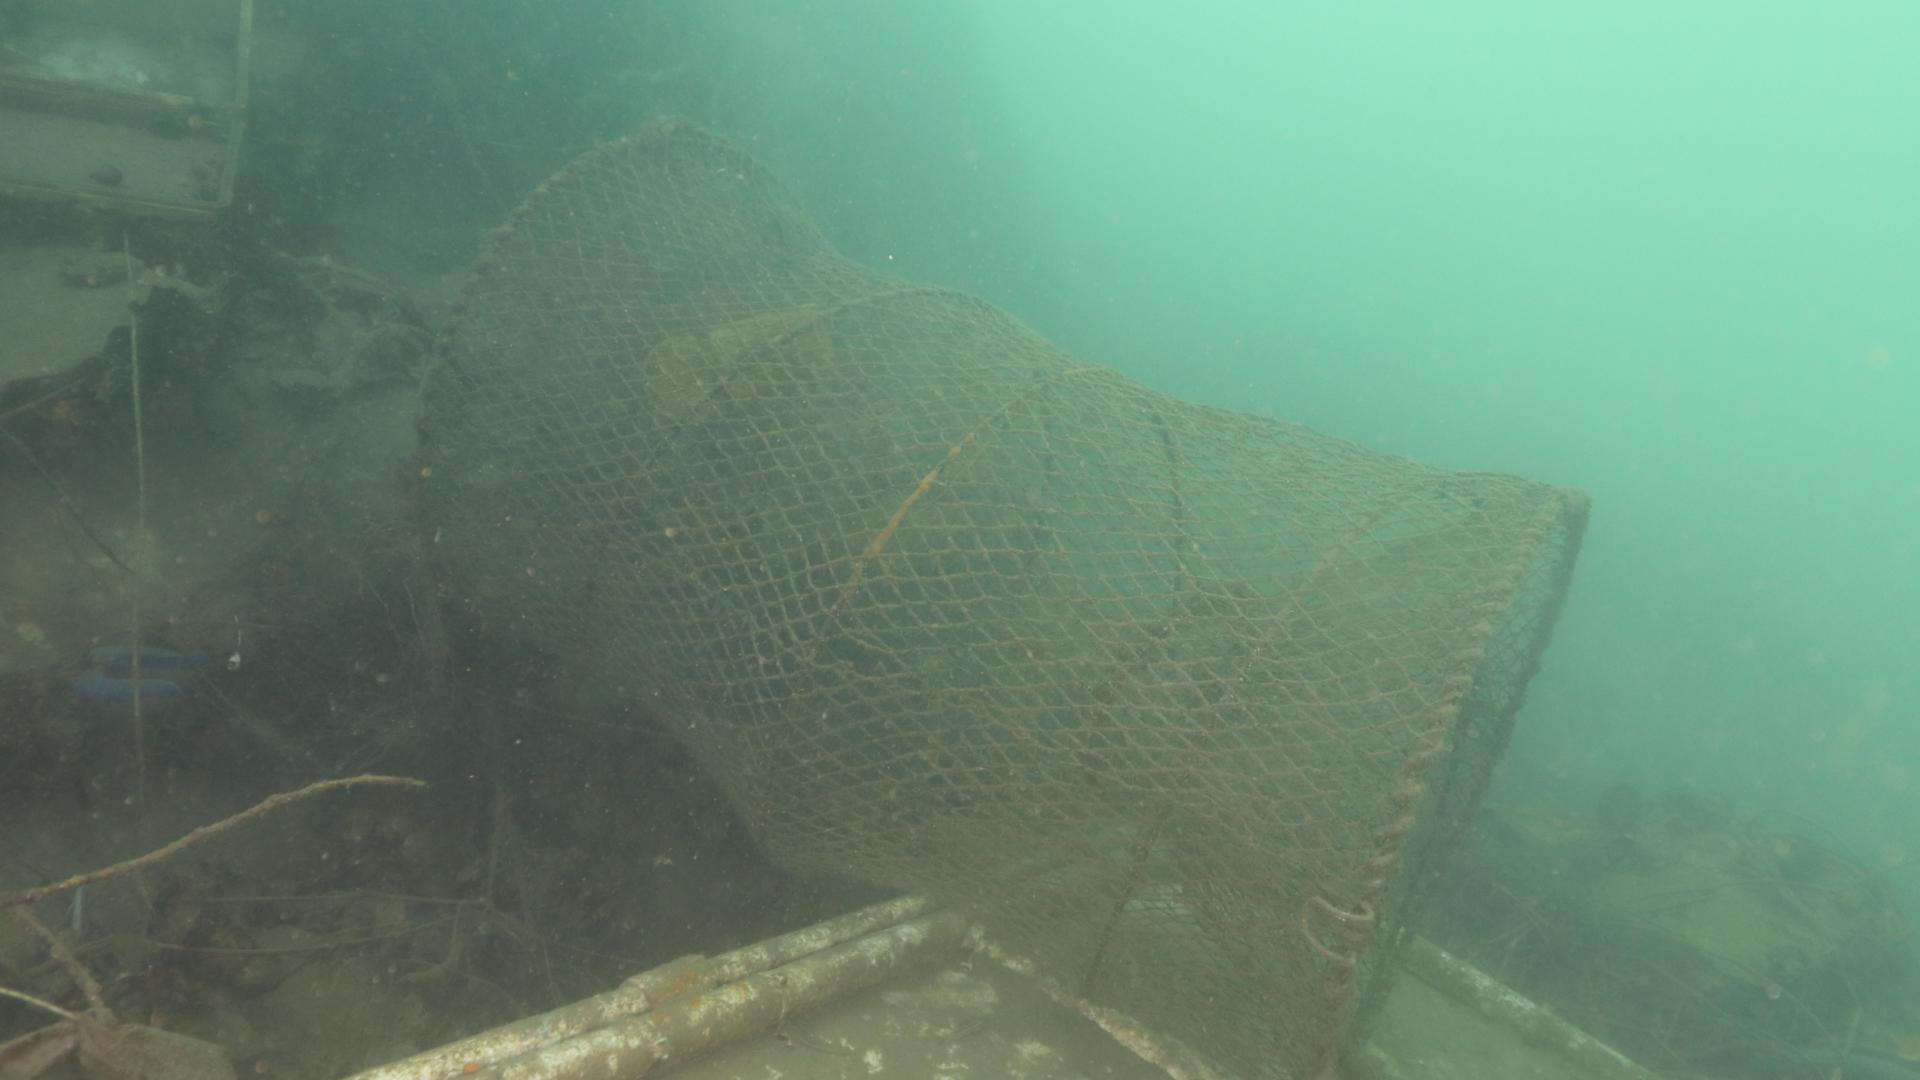spring fish trap: (396, 111, 1597, 1080)
